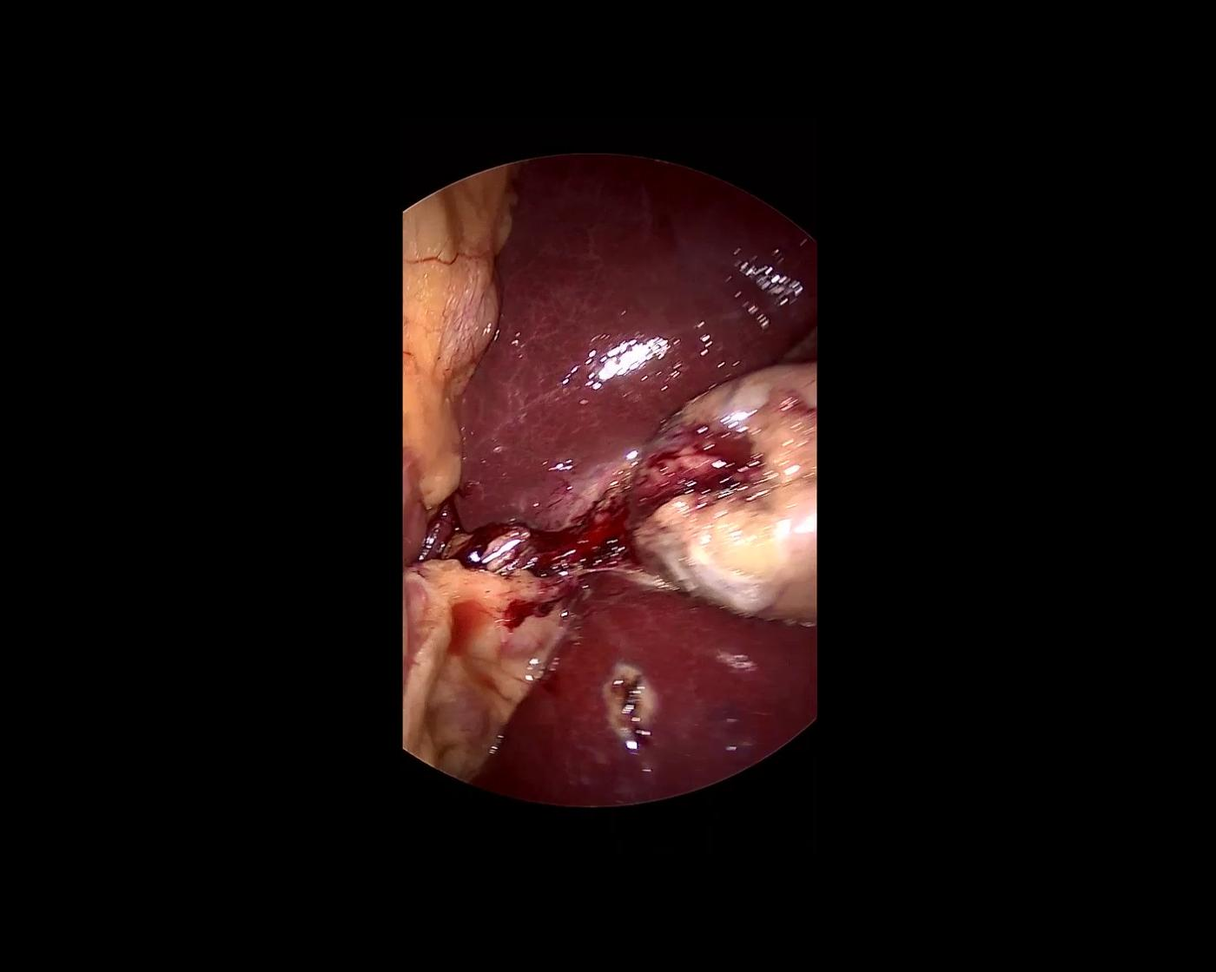Gallbladder: (633, 365, 815, 626)
Liver: (451, 159, 824, 556), (473, 541, 841, 881)
